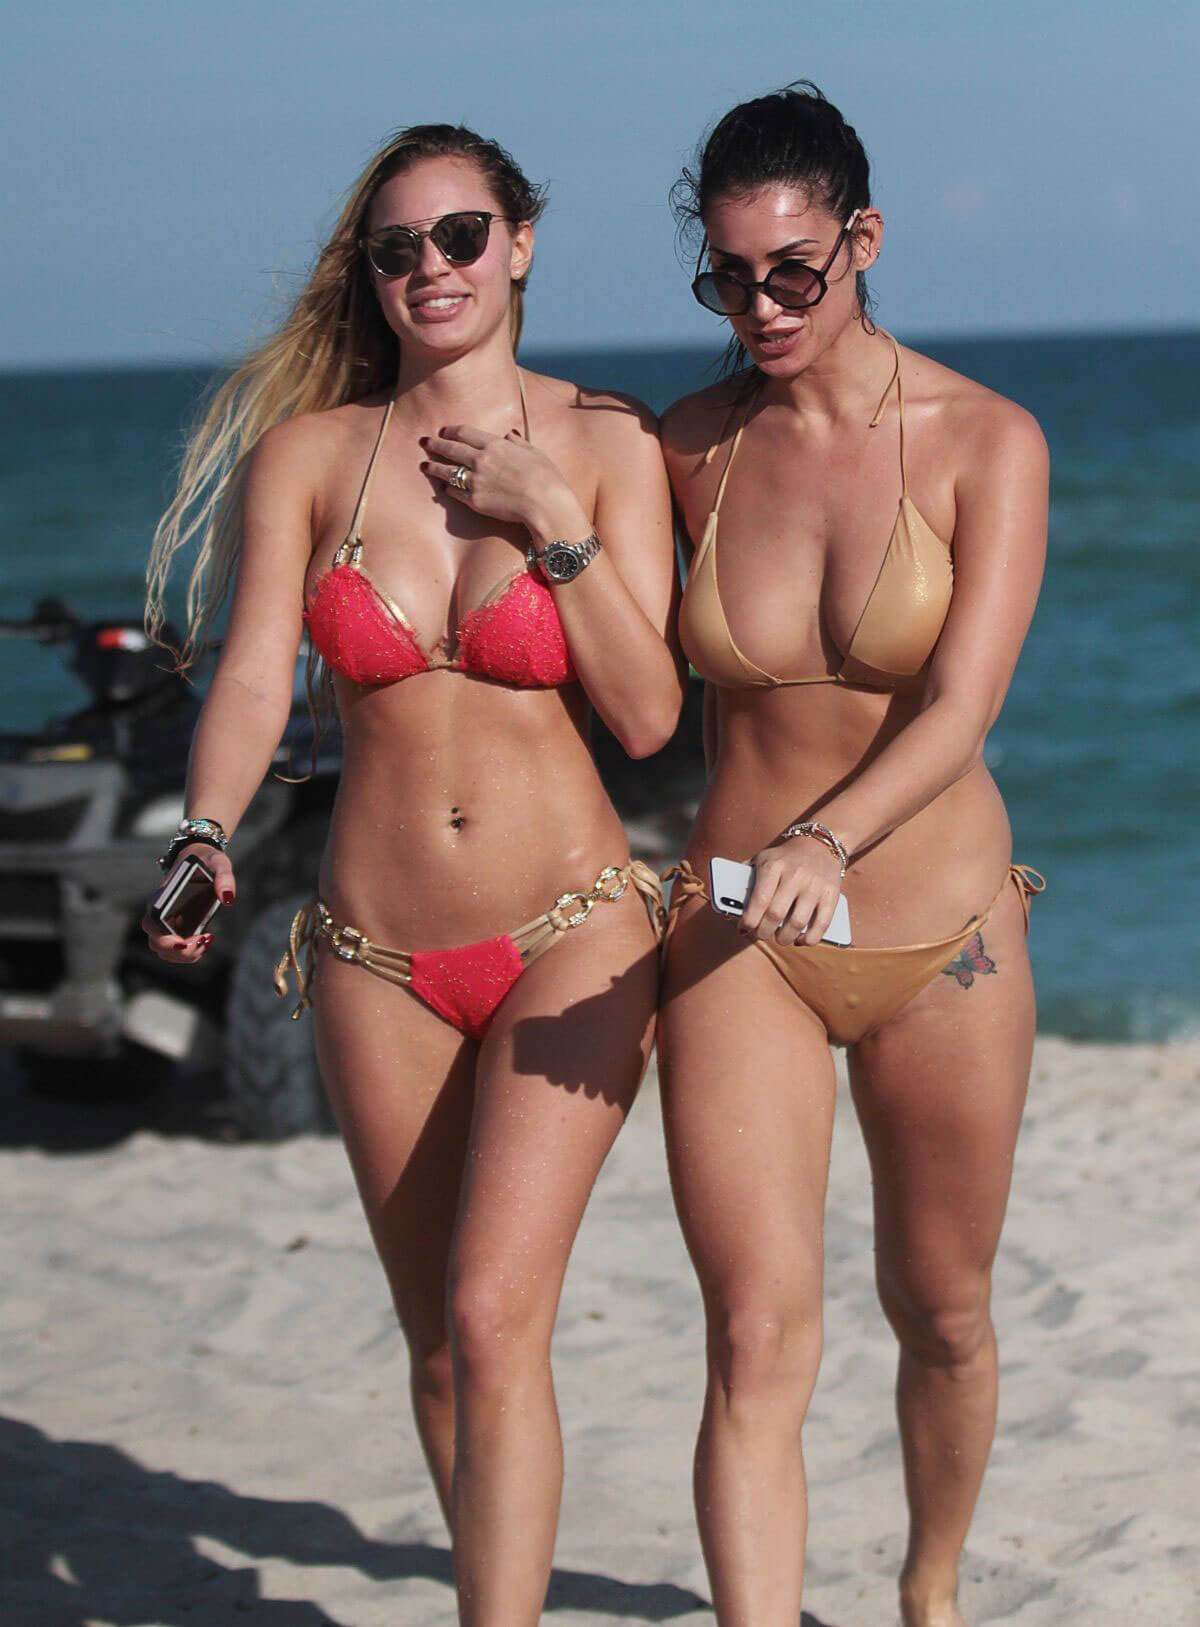Person: (140, 121, 672, 1627), (669, 82, 1051, 1627)
